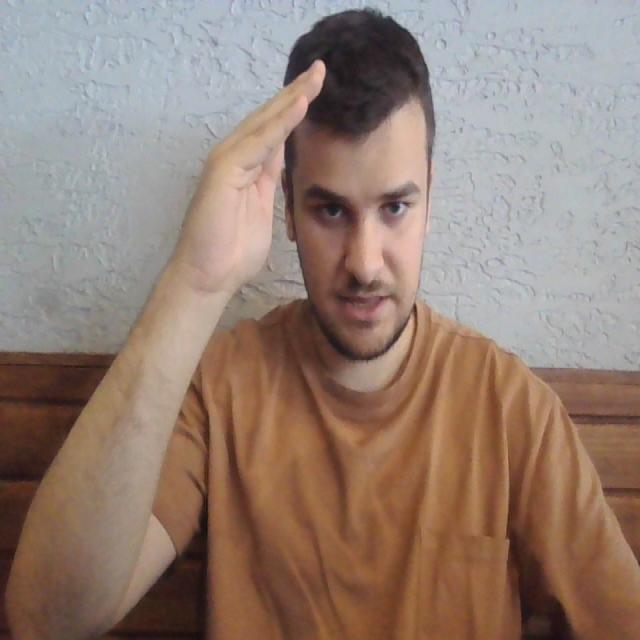Merhaba: (165, 33, 340, 315)
